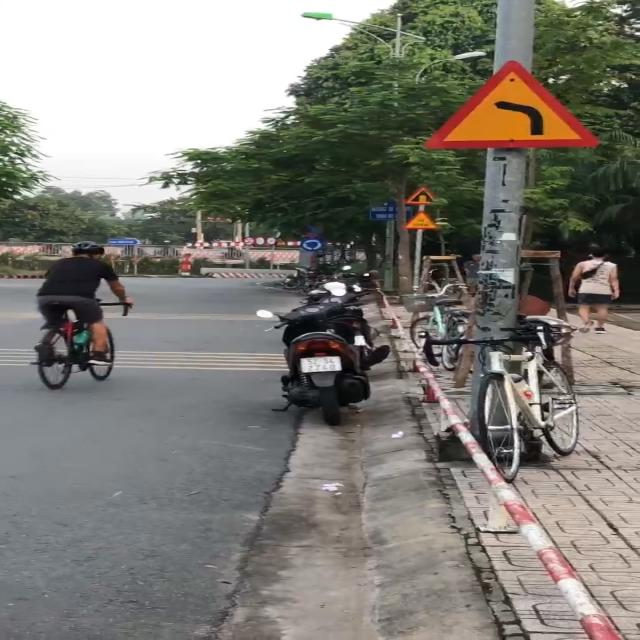Bien bao cho ngoat nguy hiem: (417, 54, 604, 150)
Bien bao noi giao nhau chay theo vong xuyen: (299, 236, 326, 252)
